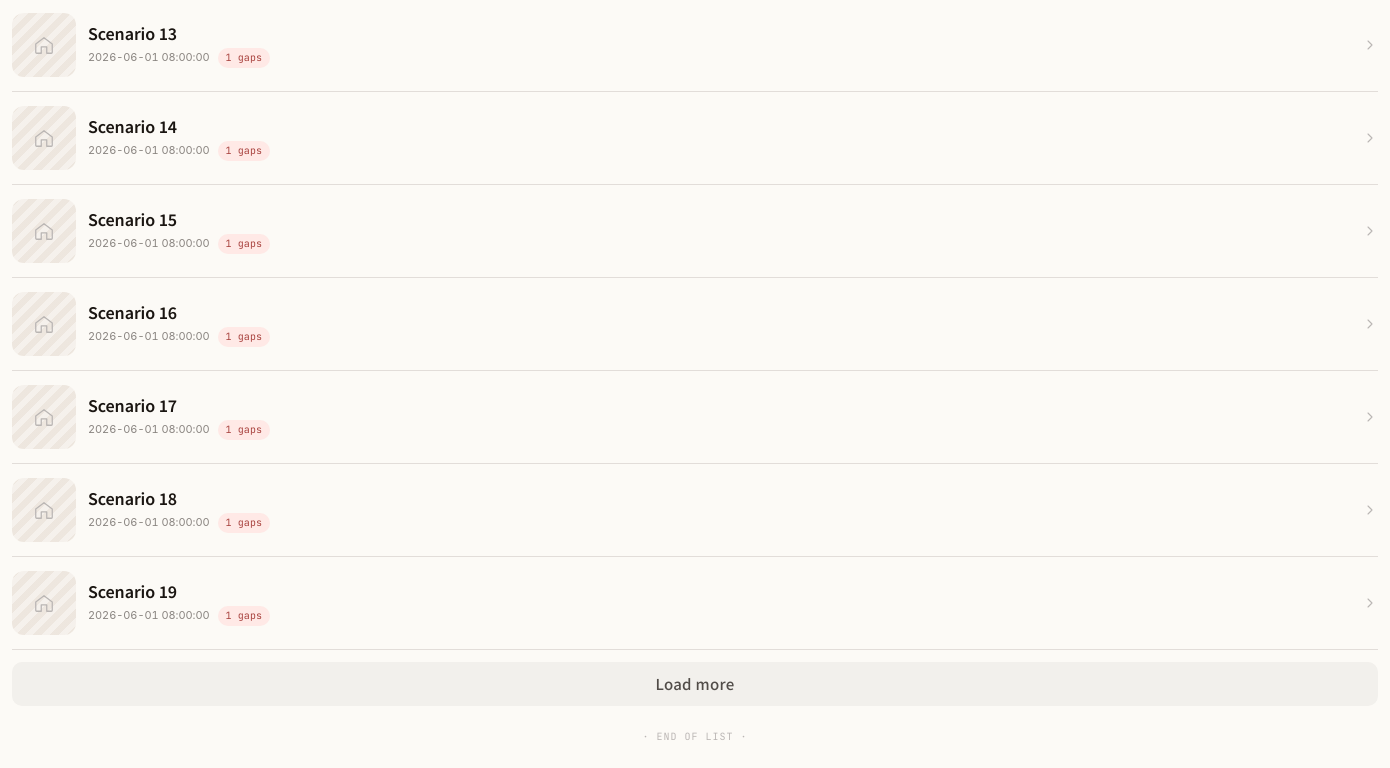
Test: HistoryPage navigation regressions › Load more appends the next page and hides the button when the page is partial
(page scrolled)
What coordinates should you click on to do the following:
click the button "Load more"
I would click on:
 (695, 684)
Its box is [12, 662, 1378, 706].
(page scrolled)
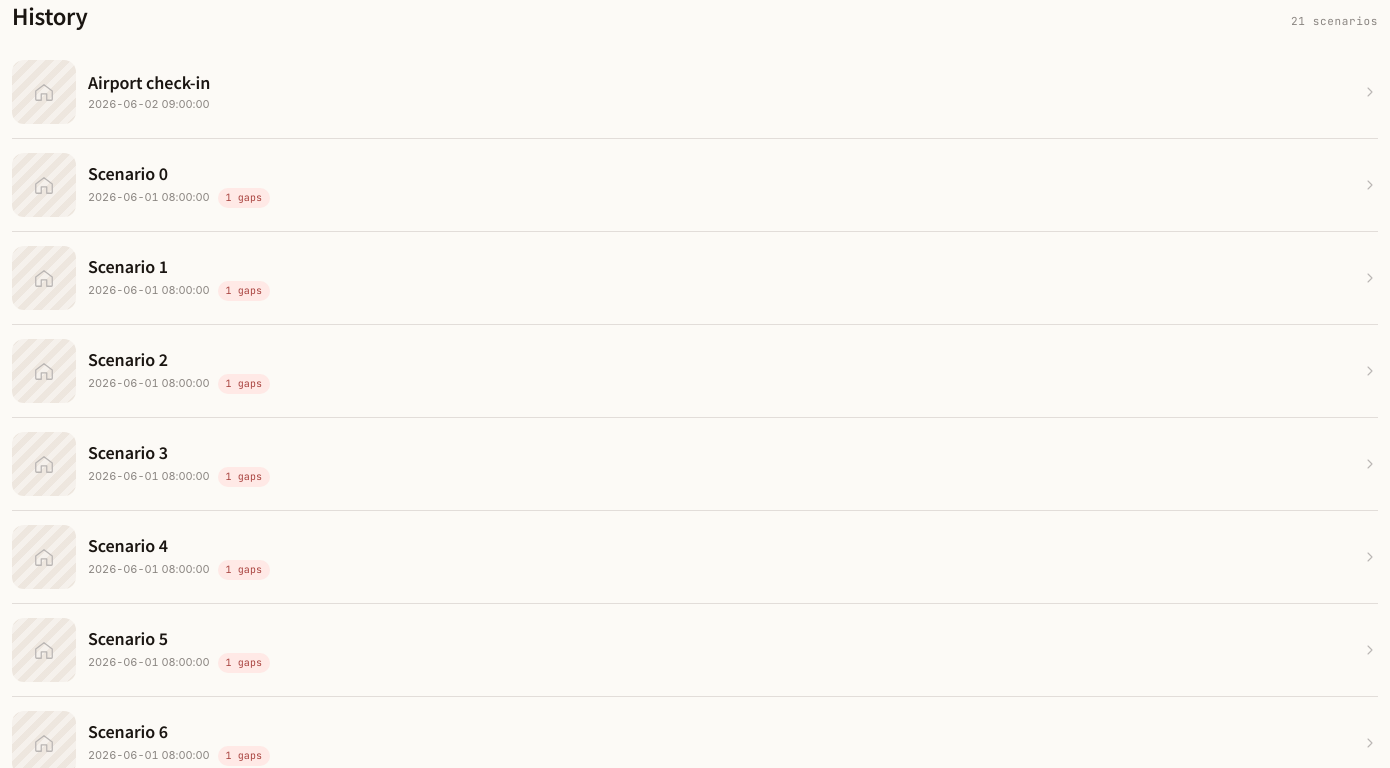
Check: the text "Airport check-in" is shown, box [88, 70, 210, 94]
Check: the button "Load more" is gone
